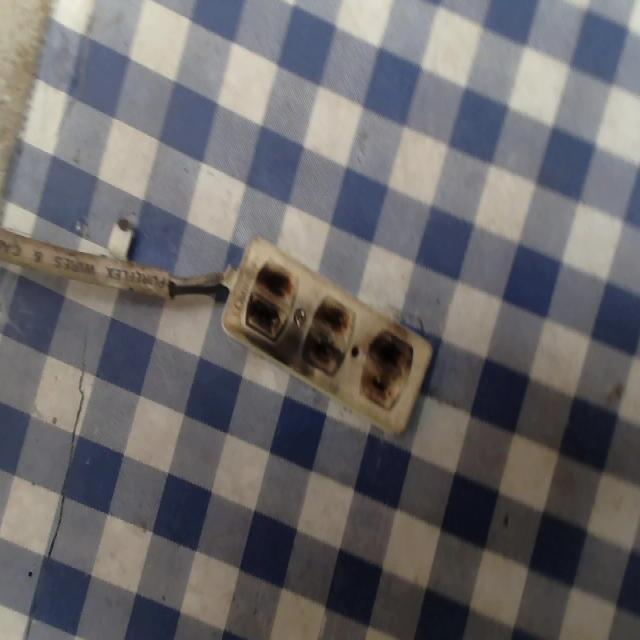-: (242, 251, 299, 348), (300, 291, 356, 376), (360, 325, 415, 411)
